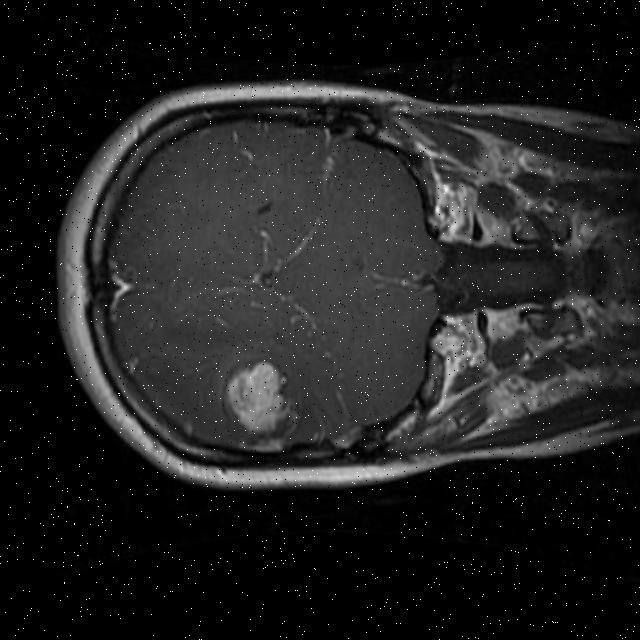Glioma: (219, 356, 294, 456)
